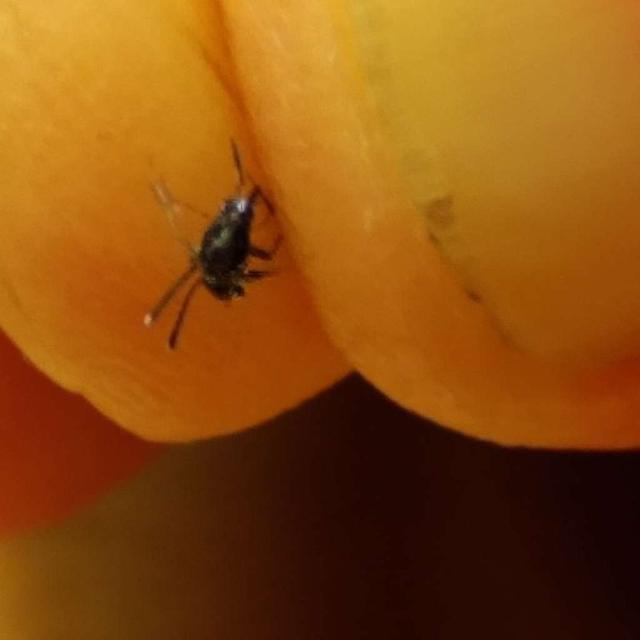albopictus: (132, 136, 297, 358)
